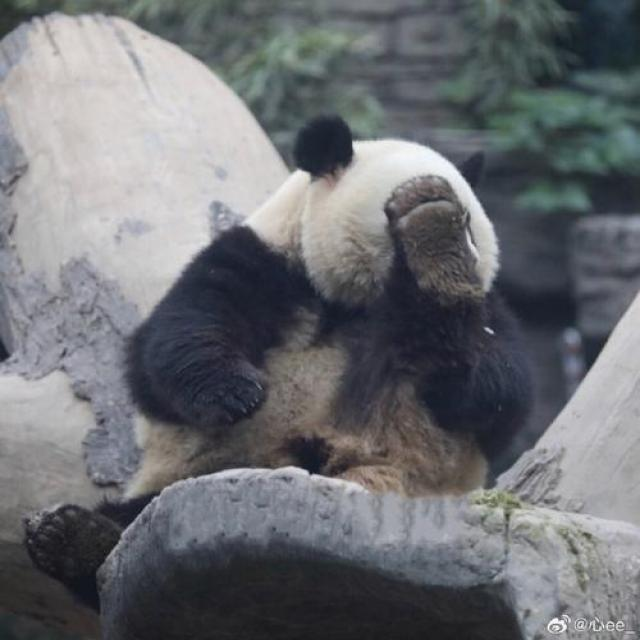panda: (112, 120, 602, 538)
